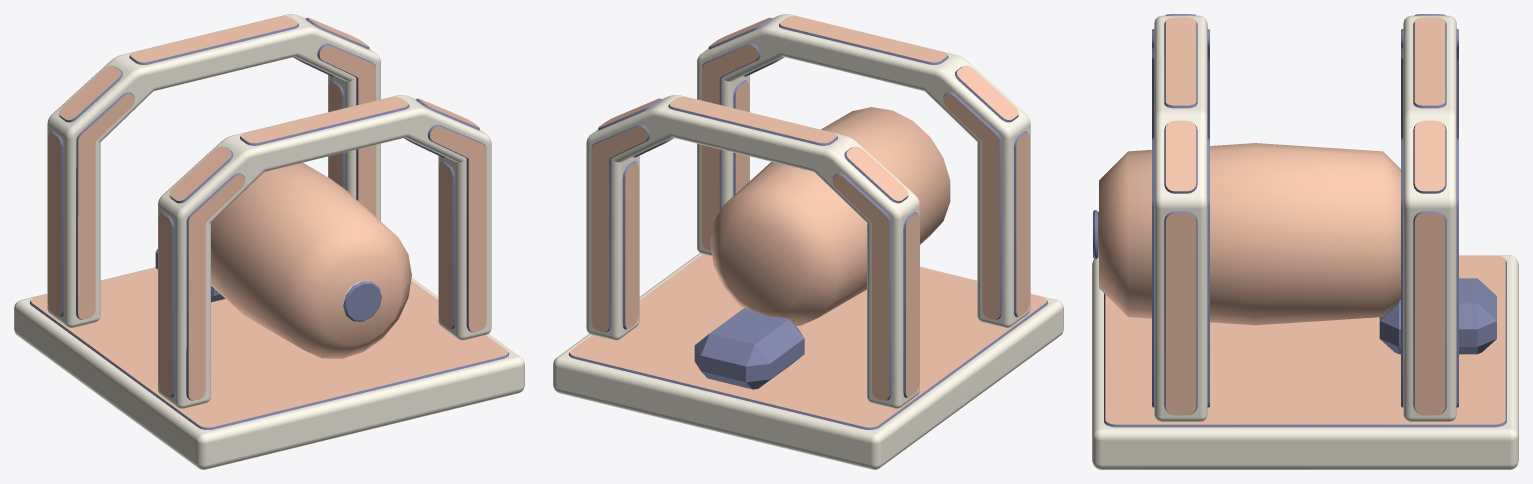
The model's file is R4X_WeaponDurabilityBooster.fbx.
The picture shows the model from 3 angles, left to right: view 1: azimuth 30°, elevation 25°; view 2: azimuth 150°, elevation 25°; view 3: azimuth 270°, elevation 25°; orthographic projection. The views are drawn at different scales.
Parts seen in each view (by area): view 1: R4X_WeaponDurabilityBooster_Body; view 2: R4X_WeaponDurabilityBooster_Body; view 3: R4X_WeaponDurabilityBooster_Body.
Boxes of the visible parts, x1,y1,x2,y2 form: R4X_WeaponDurabilityBooster_Body: [14, 14, 524, 469]; R4X_WeaponDurabilityBooster_Body: [553, 14, 1063, 469]; R4X_WeaponDurabilityBooster_Body: [1092, 14, 1518, 469].
Bounding box in the file's own units: 0.514 × 0.43 × 0.514.
